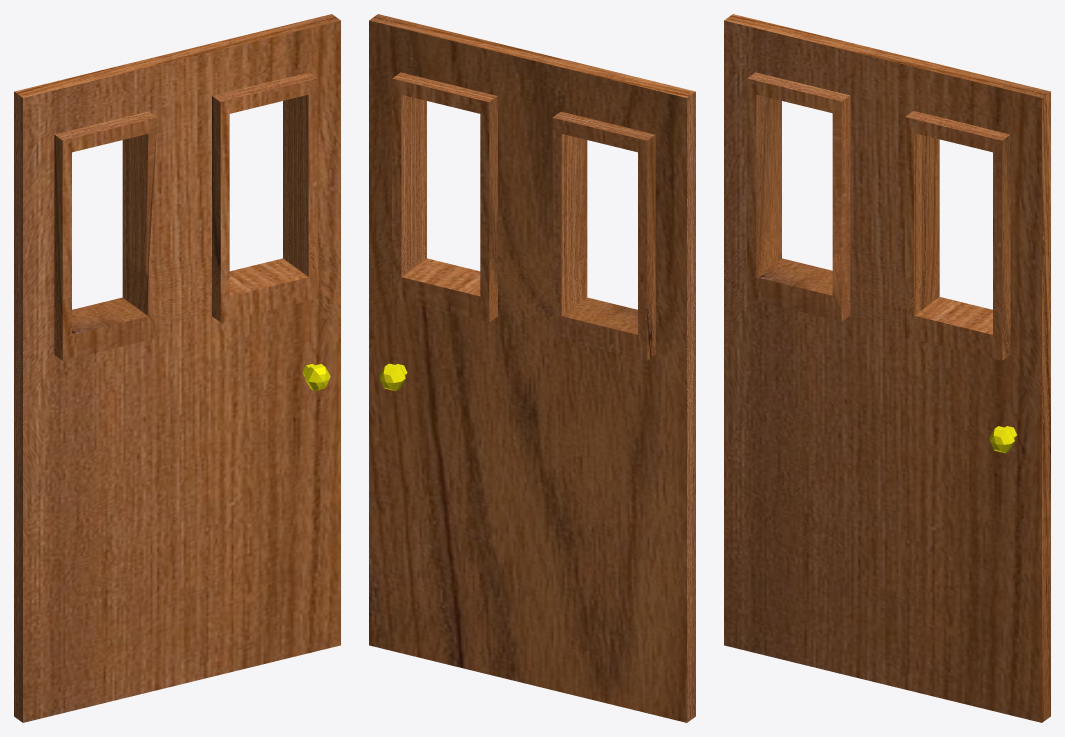
The model's file is Prop_PuertaMadera_jardin.fbx.
3 renders of one model, left to right at view 1: azimuth 30°, elevation 25°; view 2: azimuth 150°, elevation 25°; view 3: azimuth 330°, elevation 25°, orthographic.
Visible parts, largest first — view 1: Puerta_jardin1; view 2: Puerta_jardin1; view 3: Puerta_jardin1.
Part boxes in pixels (<box>): Puerta_jardin1: <box>14,14,340,722</box>; Puerta_jardin1: <box>369,14,695,722</box>; Puerta_jardin1: <box>724,14,1050,722</box>.
Bounding box in the file's own units: 1.06 × 1.99 × 0.2208.
Materials: 2 (1 with a texture image).
